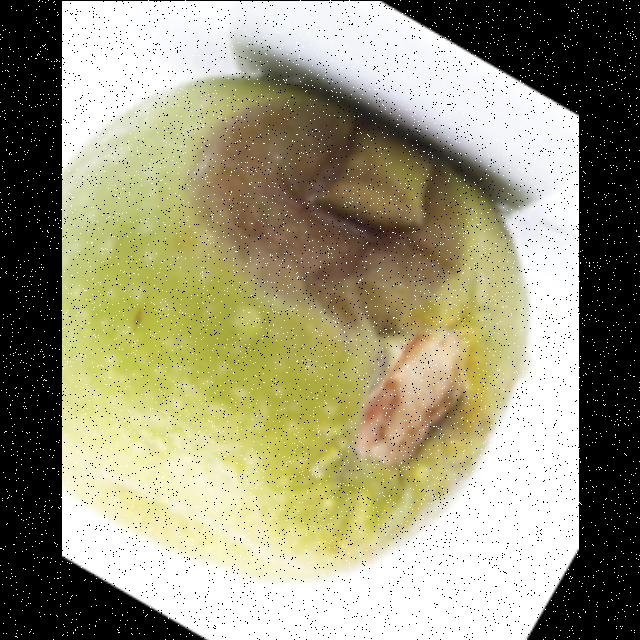Apel Tidak Segar: (61, 74, 523, 584)
